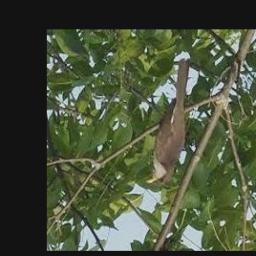Cuckoo: (145, 60, 190, 185)
